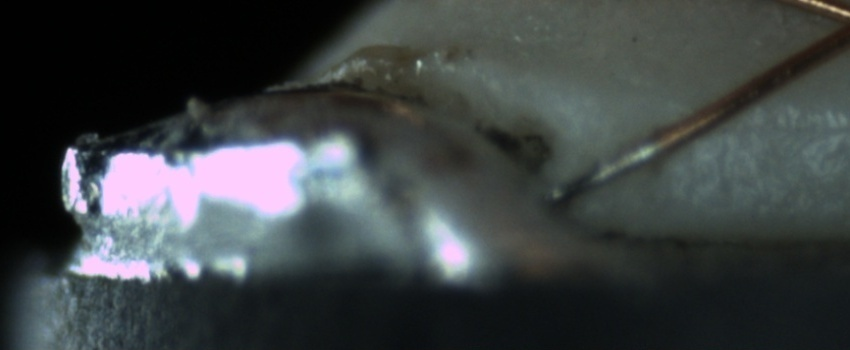CL: (803, 0, 850, 61)
DL: (727, 96, 849, 157)
TS: (542, 136, 662, 204)
